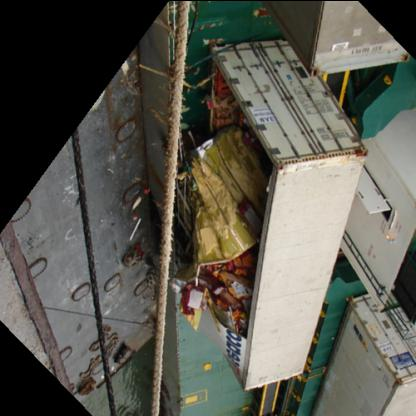Damage: (169, 75, 291, 383)
